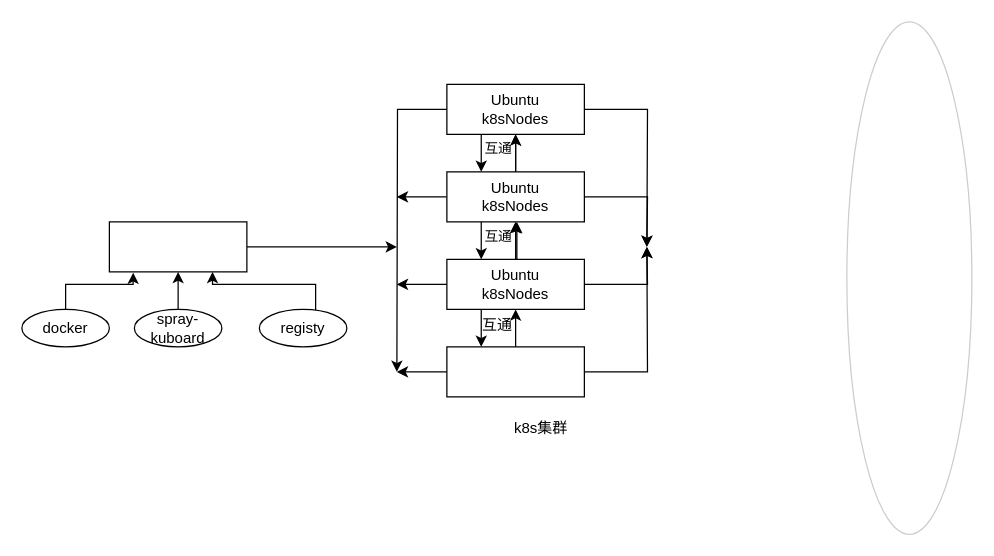
The diagram is 994 pixels wide and 556 high, and some of its shapes have lost their labels. Each missing label, with the box of its shape:
dataServer Ubuntu: (446, 346, 584, 397)
webServer Ubuntu22.04: (108, 221, 247, 272)
